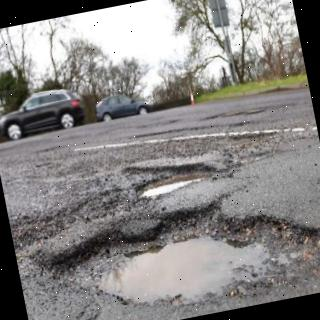pothole: (37, 206, 320, 303), (123, 162, 213, 198)
